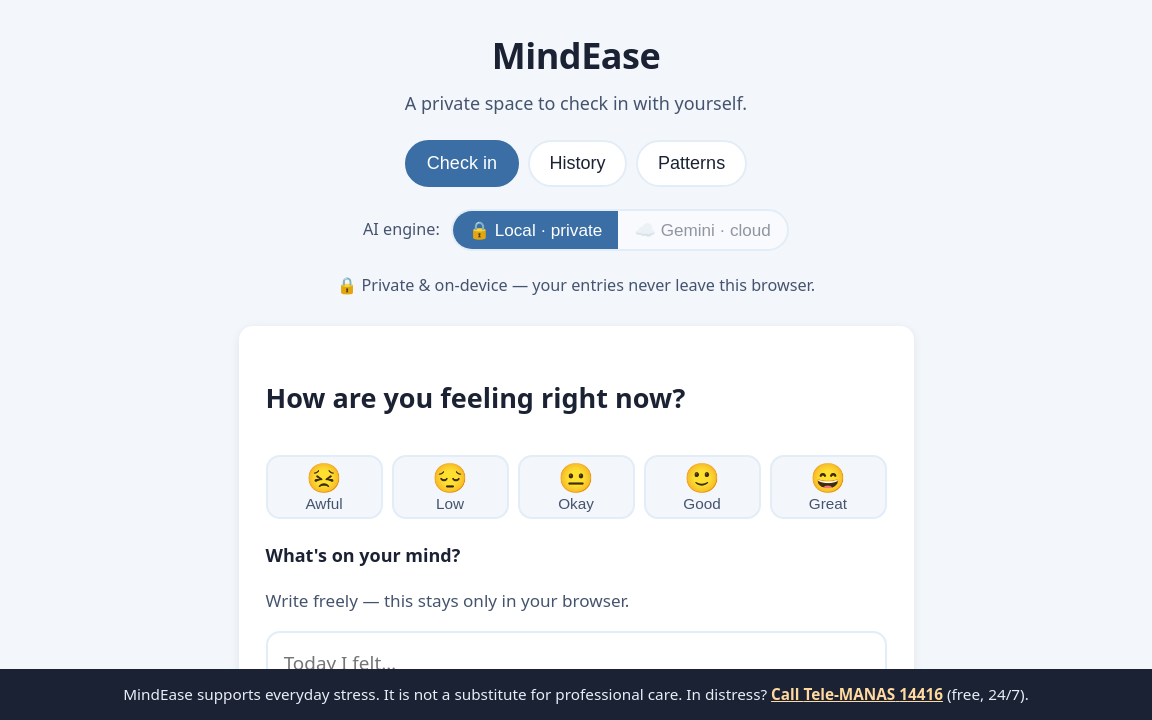
it: App — safety-first check-in flow › shows the SupportCard with reflection + coping when risk is none
Click the button "😐 Okay": {"x": 576, "y": 487} [518,455,634,519]
(page scrolled)
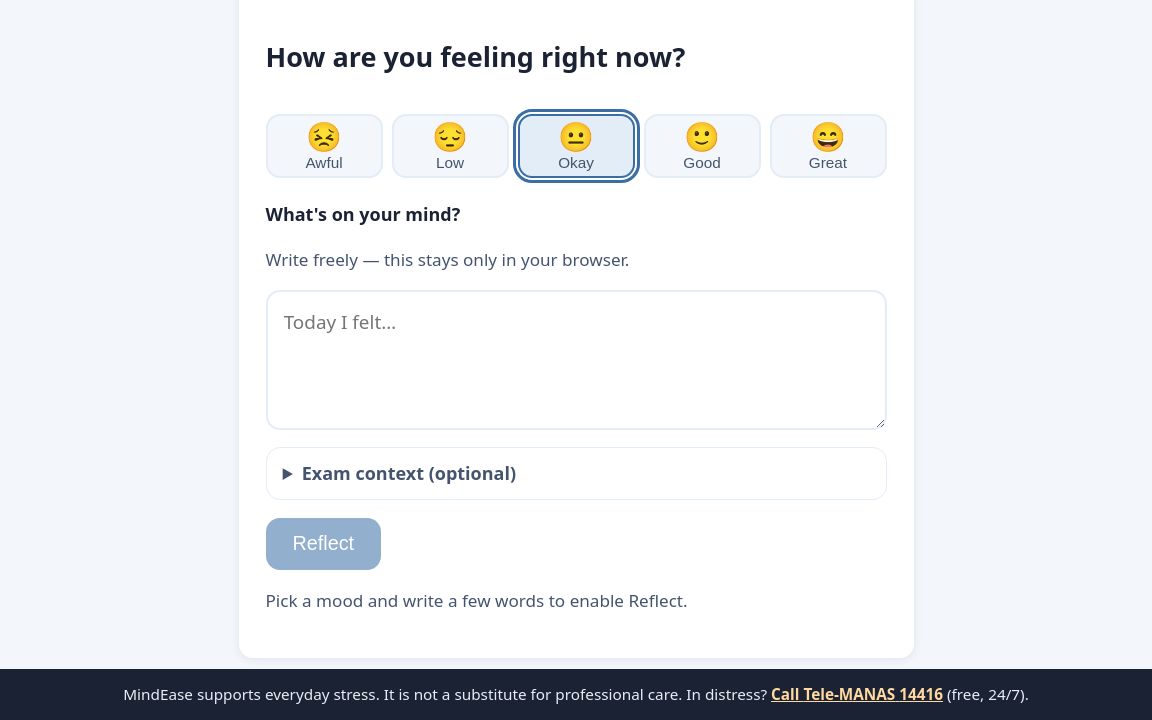
In the text box labelled "What's on your mind?": {"x": 576, "y": 360} [266,290,886,430], type "So much syllabus left and everyone seems ahead"
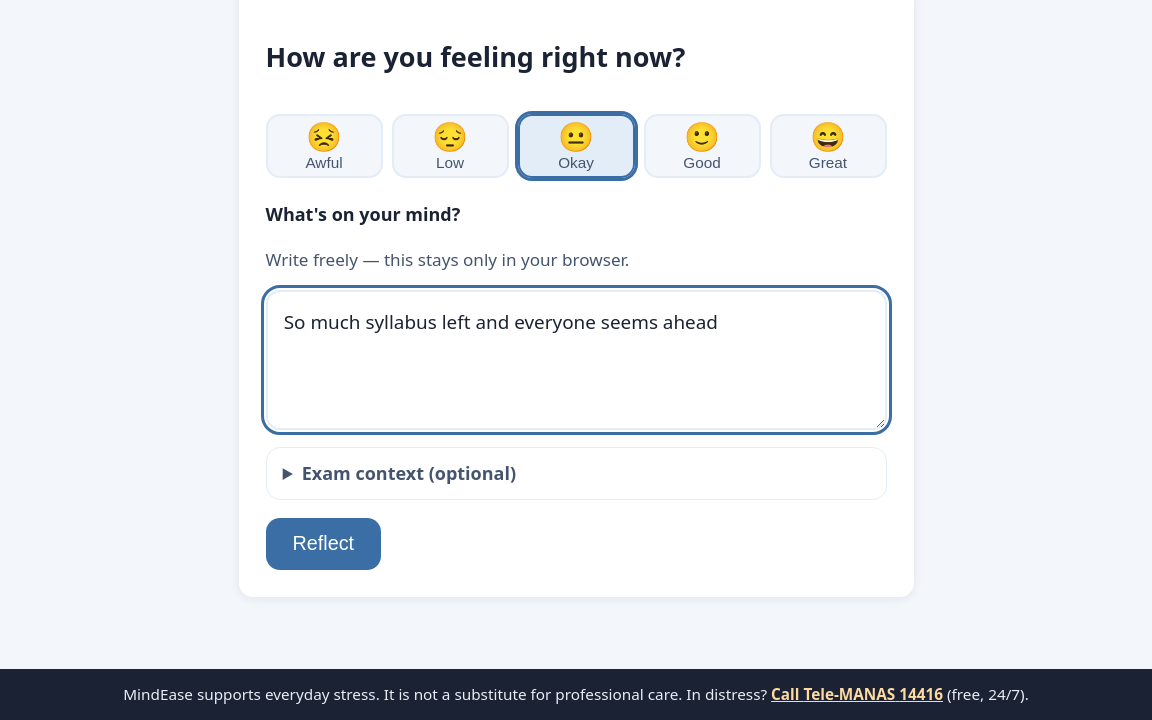
Click the button "Reflect": {"x": 323, "y": 544} [266,518,381,570]
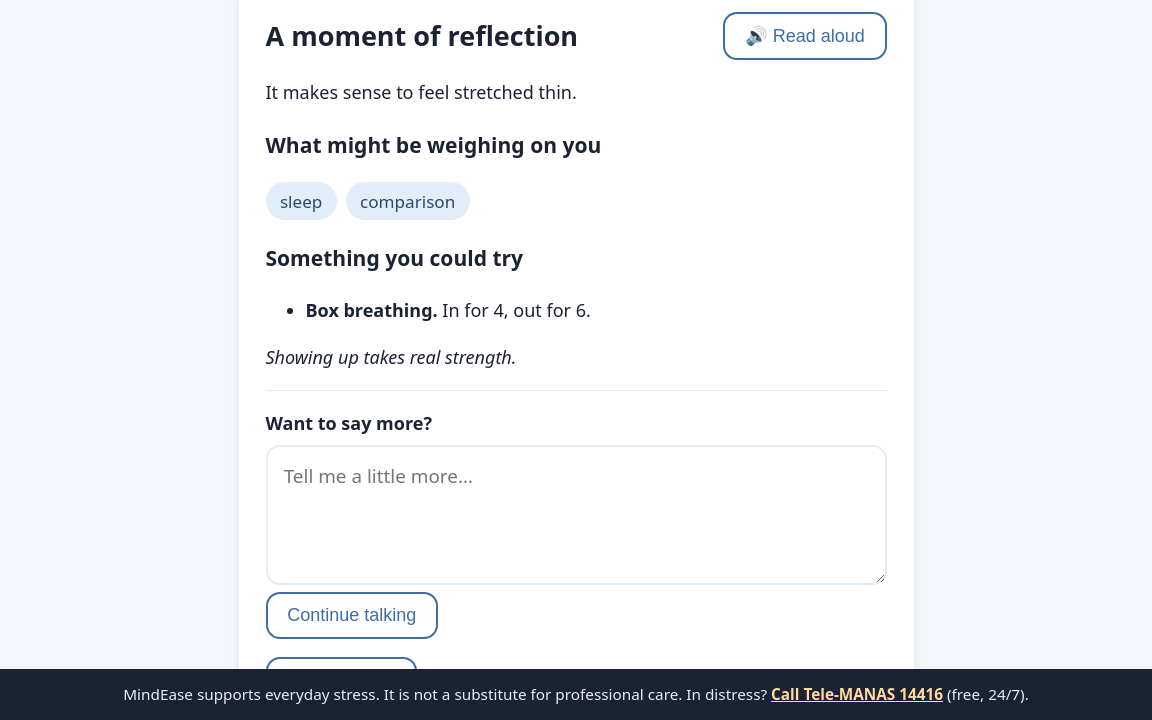
Expected: the text "It makes sense to feel stretched thin." is shown, [266,80,577,104]
Expected: the text "Box breathing." is shown, [306,298,438,322]
